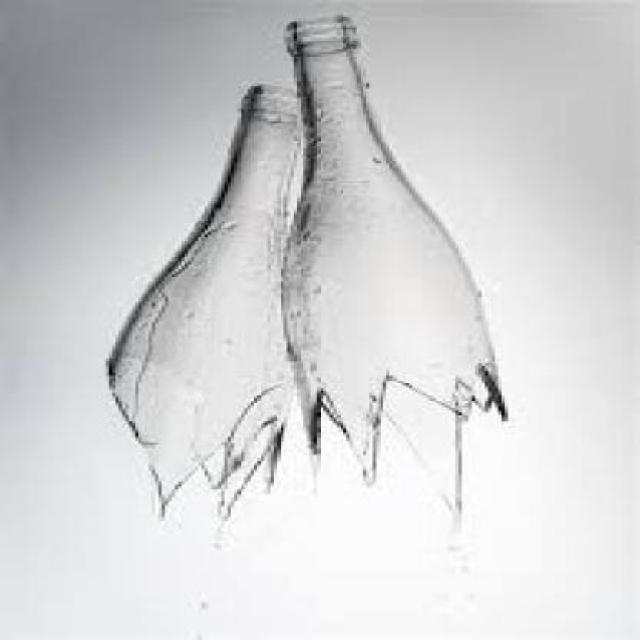kaca: (274, 11, 501, 514), (101, 81, 297, 517)
